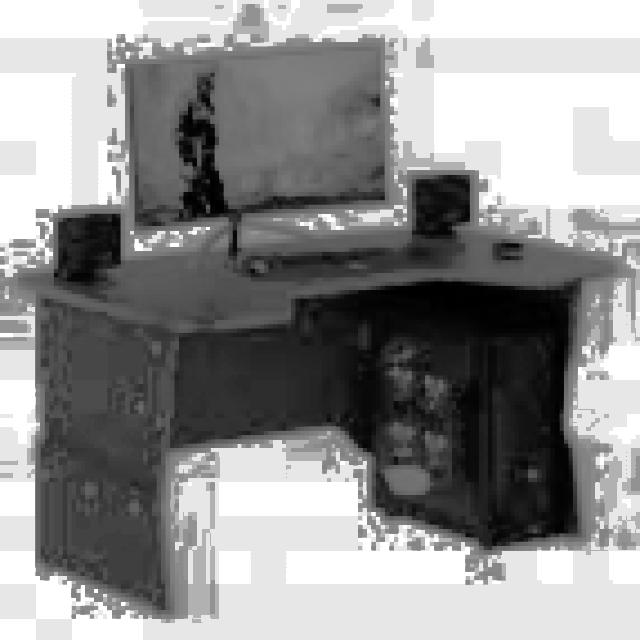table: (14, 222, 618, 614)
